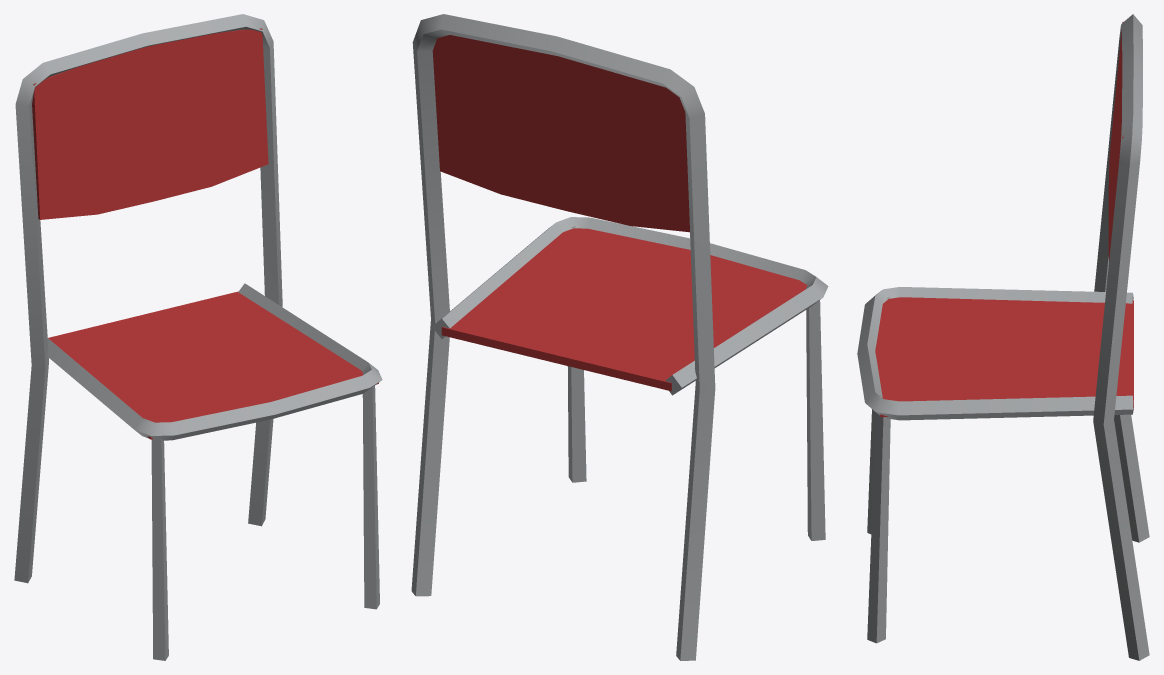
File: SM_chair_cafe_01.fbx
3 views of the same model, side by side, from view 1: azimuth 30°, elevation 25°; view 2: azimuth 150°, elevation 25°; view 3: azimuth 270°, elevation 25° (orthographic). The views are drawn at different scales.
Visible parts, largest first — view 1: Line012; view 2: Line012; view 3: Line012.
Part boxes in pixels (box(x1,y1,x2,y2)): Line012: box(14, 14, 382, 660); Line012: box(411, 14, 828, 660); Line012: box(857, 14, 1149, 660).
Size of the model in its own units: 21.3 by 20.15 by 41.
